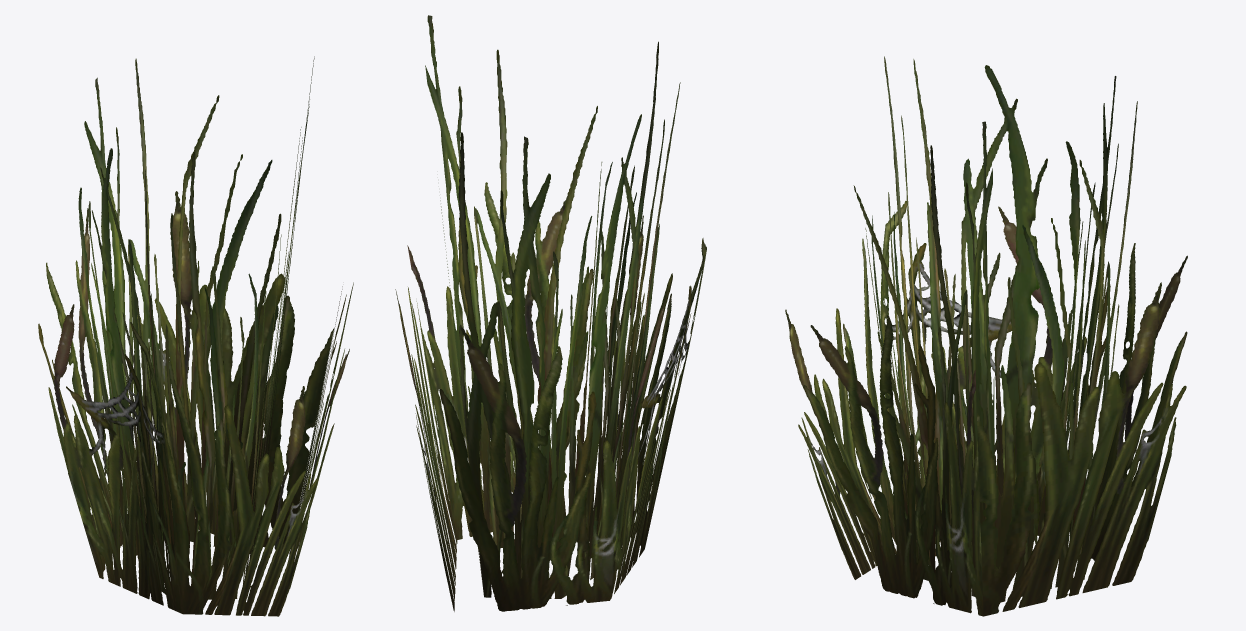
The model's file is sholazarshrub07.obj.
3 renders of one model, left to right at view 1: azimuth 30°, elevation 25°; view 2: azimuth 150°, elevation 25°; view 3: azimuth 270°, elevation 25°, orthographic. The views are drawn at different scales.
Parts seen in each view (by area): view 1: sholazarshrub07; view 2: sholazarshrub07; view 3: sholazarshrub07.
Part boxes in pixels (box(x1,y1,x2,y2)): sholazarshrub07: box(38, 56, 353, 616); sholazarshrub07: box(395, 15, 706, 611); sholazarshrub07: box(785, 56, 1187, 616).
Bounding box in the file's own units: 2.19 × 3.62 × 3.08.
1 material, 1 textured.
